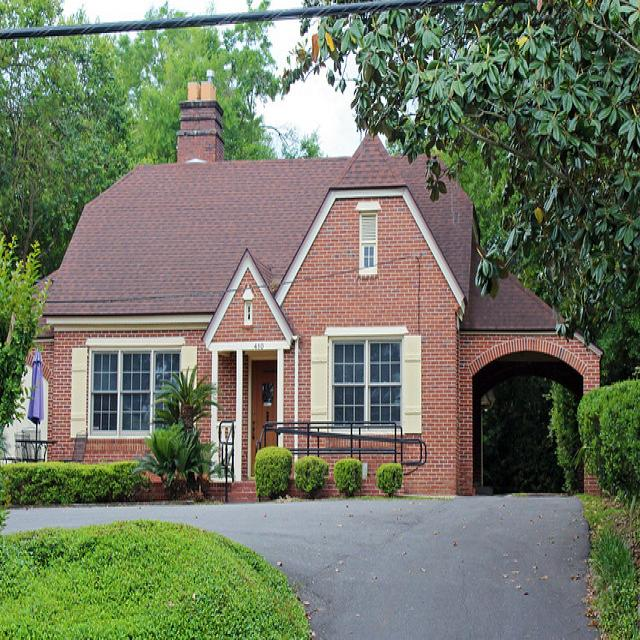Normal_building: (24, 80, 602, 503)
